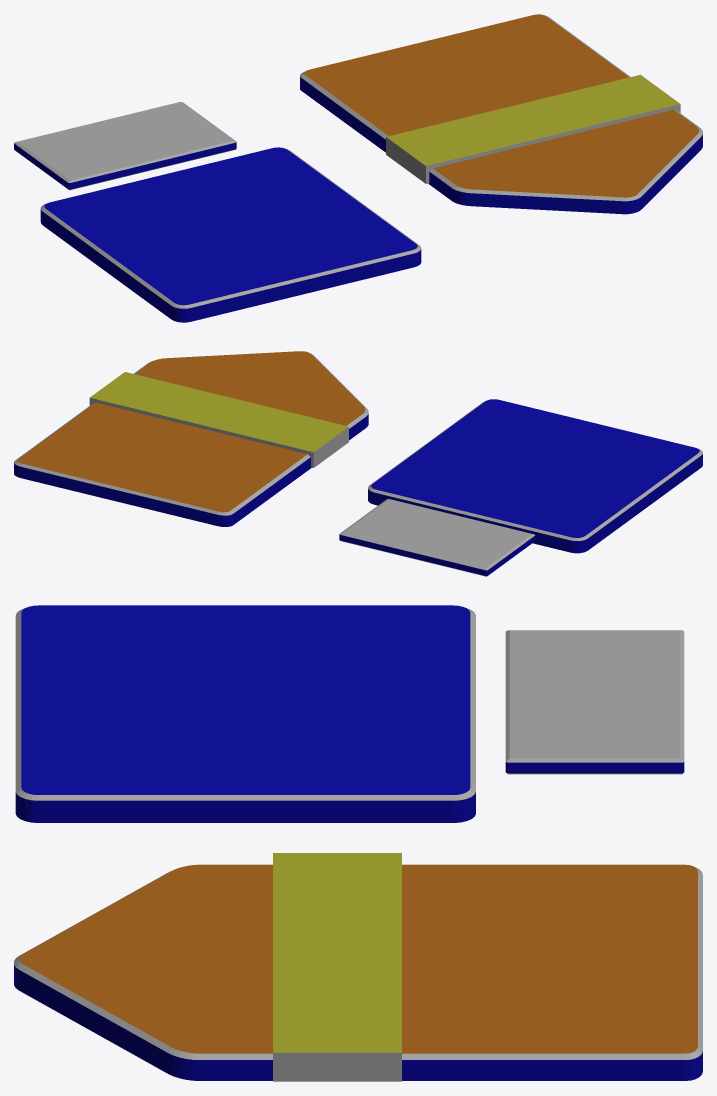
The model's file is player.obj.
3 views of the same model, one above another, from view 1: azimuth 30°, elevation 25°; view 2: azimuth 150°, elevation 25°; view 3: azimuth 270°, elevation 25° (orthographic). The views are drawn at different scales.
Parts seen in each view (by area): view 1: Player, Team_Plane, Name_Cube.001, TeamFlag_Cube.002; view 2: Player, Team_Plane, Name_Cube.001, TeamFlag_Cube.002; view 3: Player, Team_Plane, Name_Cube.001, TeamFlag_Cube.002.
Boxes of the visible parts, x1,y1,x2,y2 form: Player: (300,14,702,214); Team_Plane: (40,147,421,322); Name_Cube.001: (386,74,680,183); TeamFlag_Cube.002: (14,102,236,190); Player: (14,351,368,526); Team_Plane: (368,399,702,553); Name_Cube.001: (89,372,348,467); TeamFlag_Cube.002: (339,499,535,576); Player: (14,864,702,1080); Team_Plane: (15,605,475,822); Name_Cube.001: (273,853,401,1081); TeamFlag_Cube.002: (505,630,684,774).
Bounding box in the file's own units: 14.08 × 0.4817 × 8.98.
